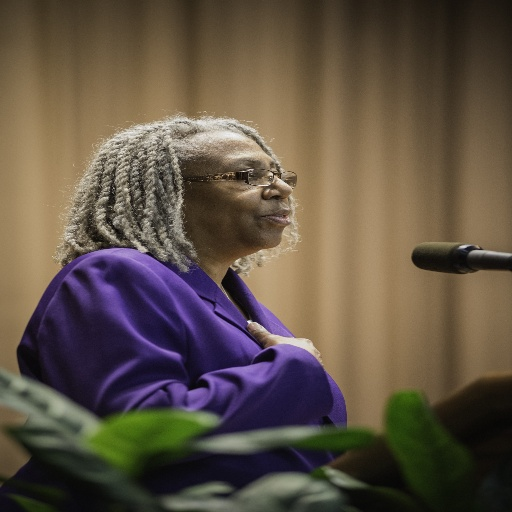hand: (242, 318, 324, 370)
